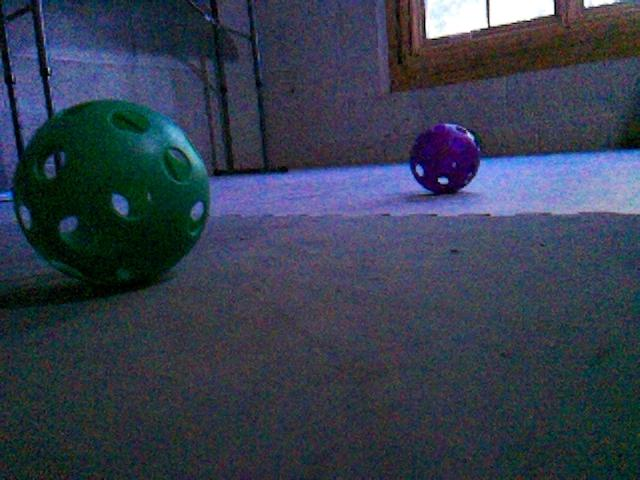Green: (10, 99, 210, 290)
Purple: (408, 122, 481, 195)
